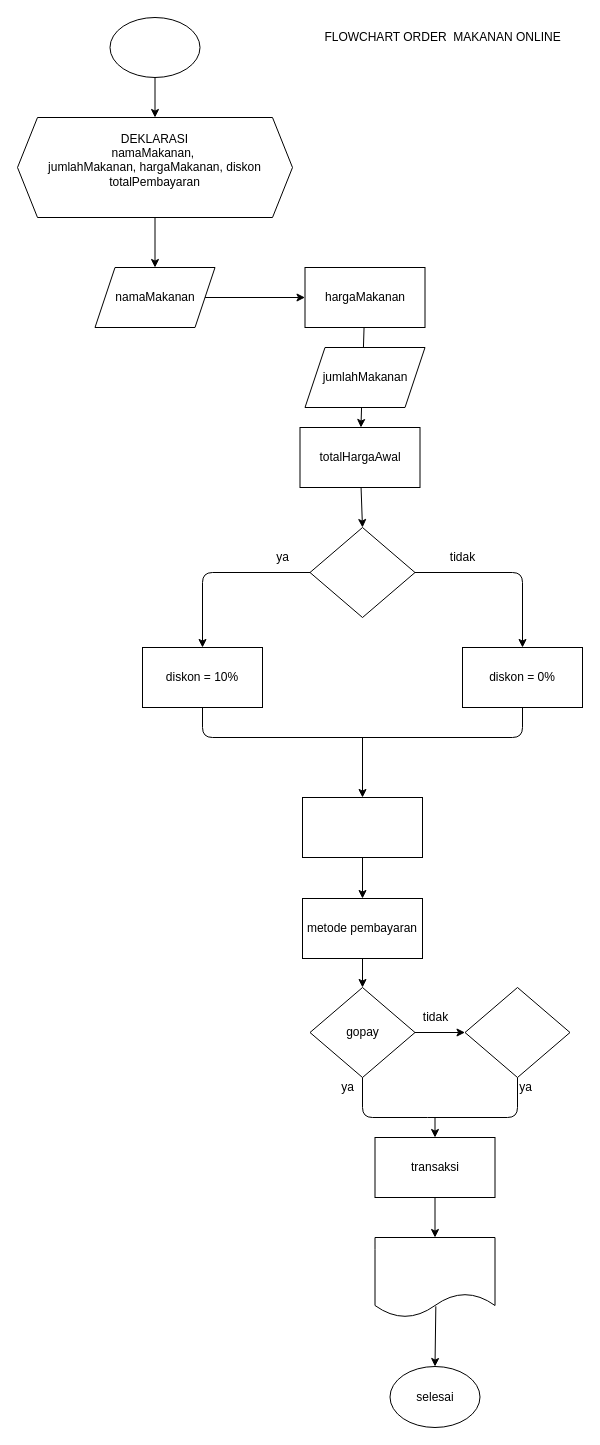
The diagram is 600 pixels wide and 1445 high, and some of its shapes have lost their labels. The shapes that lost their labels are listed below. From the top down, each one's centre as x and y in pixels, then its label:
At point (154, 47): "mulai".
At point (362, 572): "totalHargaAwal > 50000".
At point (362, 827): "totalPembayaran".
At point (517, 1032): "dana".
At point (434, 1277): "struk".
